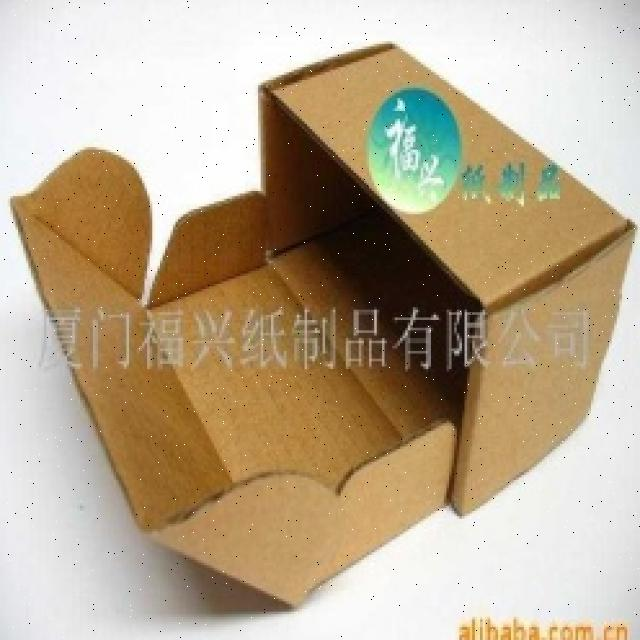box: (5, 28, 640, 617)
